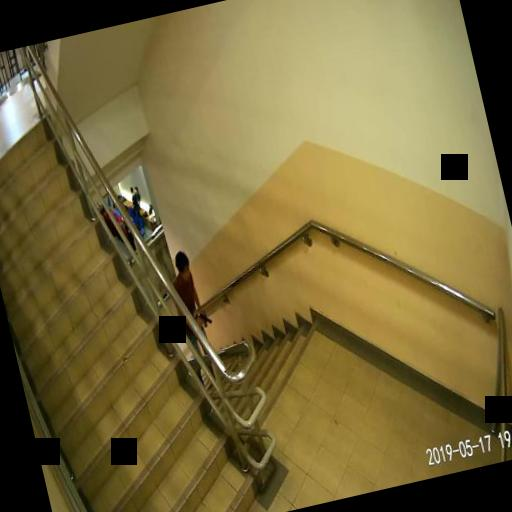Handgun: (194, 308, 210, 328)
